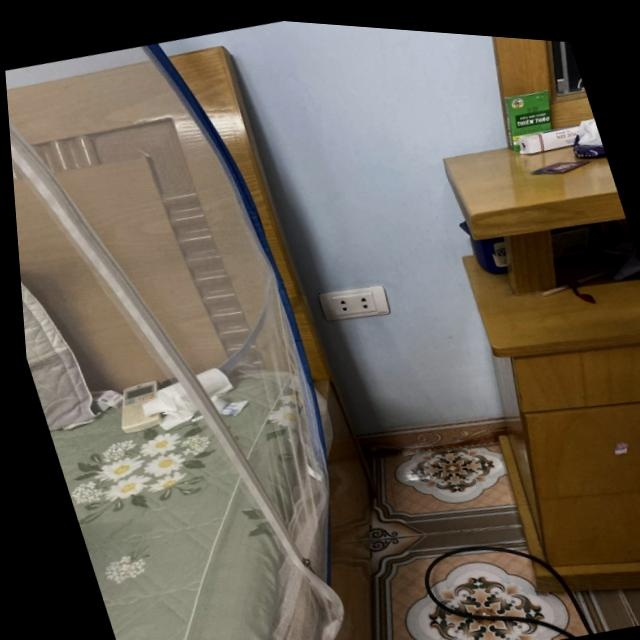outlet: (314, 276, 393, 329)
